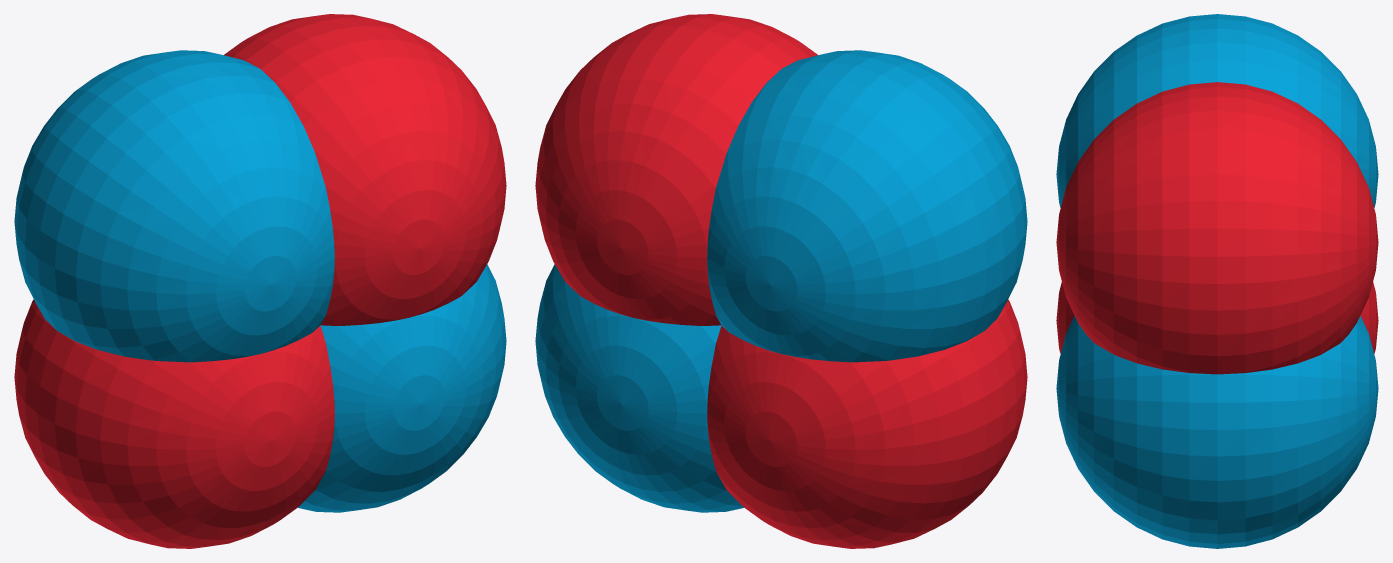
The model's file is tinker.obj.
3 renders of one model, left to right at view 1: azimuth 30°, elevation 25°; view 2: azimuth 150°, elevation 25°; view 3: azimuth 270°, elevation 25°, orthographic. The views are drawn at different scales.
Parts seen in each view (by area): view 1: group_0_40919, group_0_15277357; view 2: group_0_40919, group_0_15277357; view 3: group_0_15277357, group_0_40919.
Part boxes in pixels (x1=…): group_0_40919: x1=14, y1=50, x2=506, y2=512; group_0_15277357: x1=14, y1=14, x2=506, y2=548; group_0_40919: x1=535, y1=50, x2=1027, y2=512; group_0_15277357: x1=535, y1=14, x2=1027, y2=548; group_0_15277357: x1=1056, y1=82, x2=1378, y2=374; group_0_40919: x1=1056, y1=14, x2=1378, y2=548.
Bounding box in the file's own units: 1.5 × 1.5 × 1.
